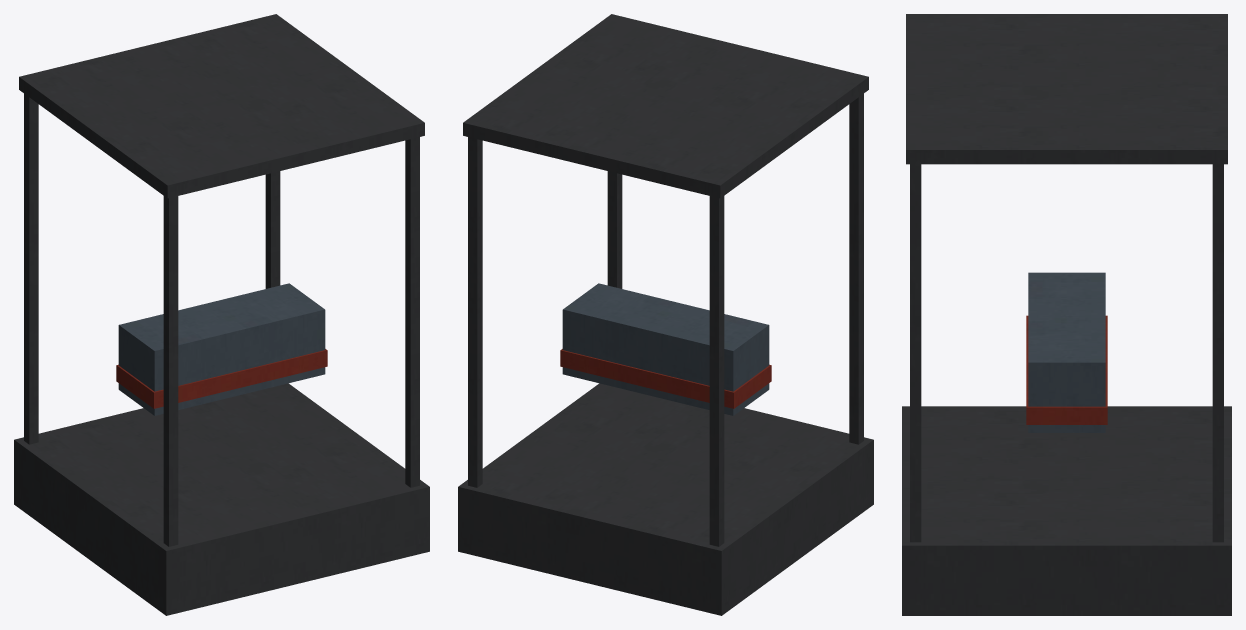
File: vault_case_train_01.glb
3 renders of one model, left to right at view 1: azimuth 30°, elevation 25°; view 2: azimuth 150°, elevation 25°; view 3: azimuth 270°, elevation 25°, orthographic. The views are drawn at different scales.
Visible parts, largest first — view 1: vault_case_train_01; view 2: vault_case_train_01; view 3: vault_case_train_01.
Boxes of the visible parts, box(x1,y1,x2,y2) form: vault_case_train_01: box(14, 14, 429, 615); vault_case_train_01: box(458, 14, 873, 615); vault_case_train_01: box(902, 14, 1231, 615).
Size of the model in its own units: 1.7 by 2.64 by 1.7.
3 materials, 3 textured.
